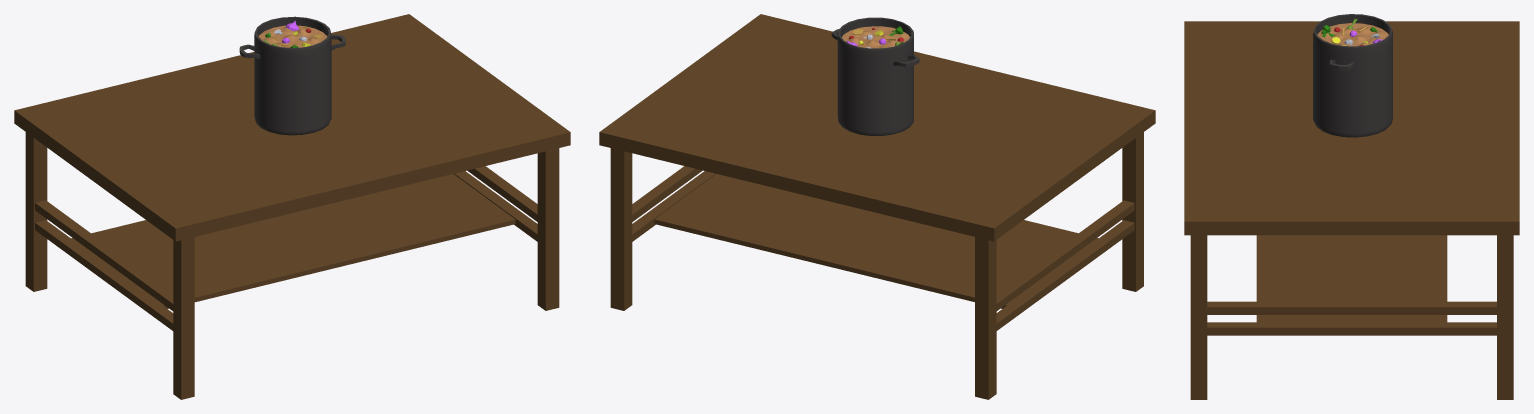
File: kitchen_b.fbx
3 renders of one model, left to right at view 1: azimuth 30°, elevation 25°; view 2: azimuth 150°, elevation 25°; view 3: azimuth 270°, elevation 25°, orthographic. The views are drawn at different scales.
Visible parts, largest first — view 1: Table1.001, Pot.002; view 2: Table1.001, Pot.002; view 3: Table1.001, Pot.002.
Part boxes in pixels (left/top/right/bottom): Table1.001: left=14, top=14, right=570, bottom=399; Pot.002: left=239, top=16, right=345, bottom=135; Table1.001: left=599, top=14, right=1155, bottom=399; Pot.002: left=831, top=17, right=919, bottom=135; Table1.001: left=1184, top=21, right=1519, bottom=399; Pot.002: left=1313, top=14, right=1392, bottom=137.
Size of the model in its own units: 1760 by 1123 by 1246.
